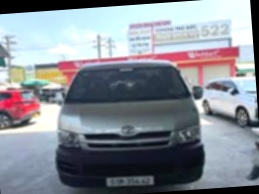Bien-so: (104, 181, 150, 193)
